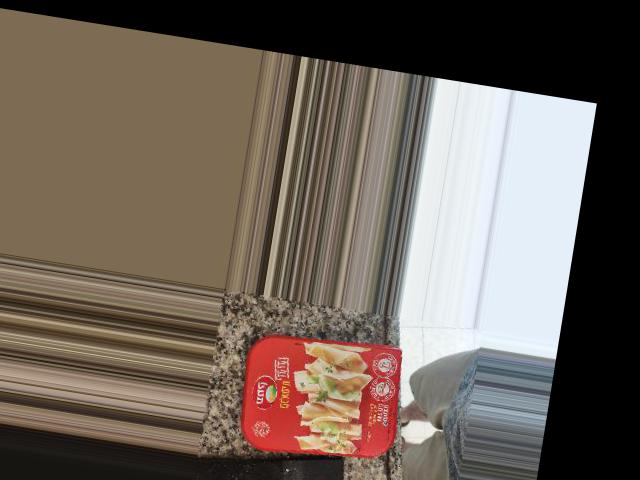cheese: (238, 321, 412, 470)
